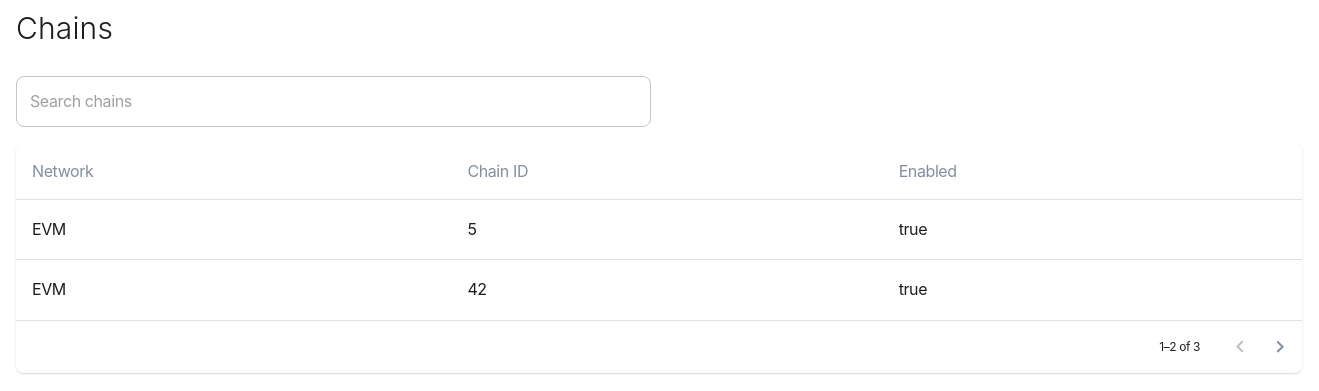
it: ChainsScreen › can page through the list of chains
Check: the text "5" is shown, box [467,218,476,241]
Check: the text "42" is shown, box [467,278,487,302]
Click the button named "next-page": (1280, 347) [1260,327,1300,367]
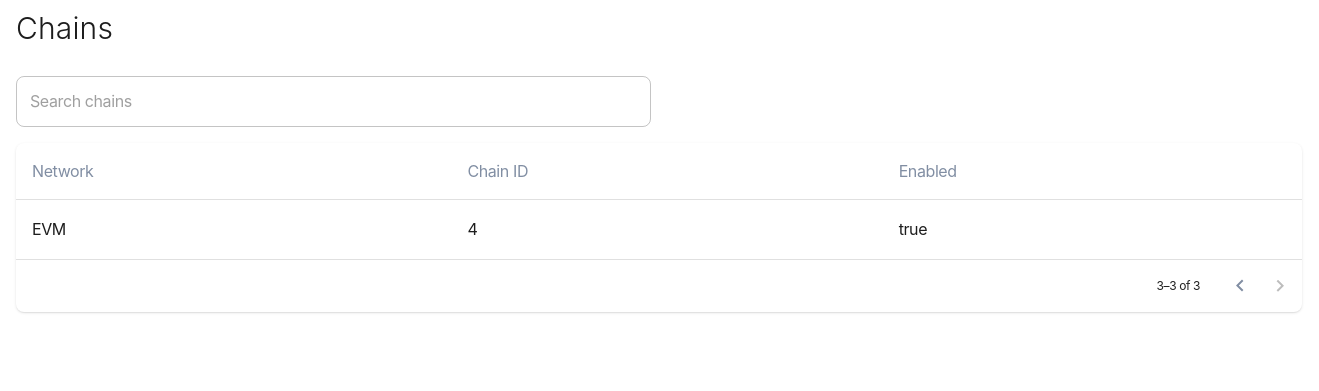
Check: the text "4" is shown, box [467,218,477,241]
Check: the text "3–3 of 3" is shown, box [1157,276,1200,297]
Check: the button named "next-page" is disabled, box [1260,266,1300,306]
Click the button named "prev-page": (1240, 286) [1220,266,1260,306]
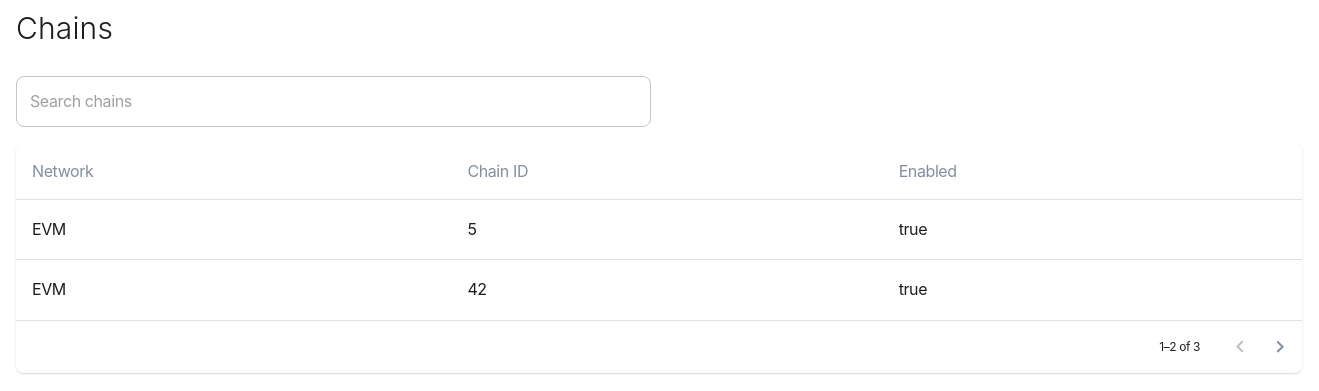
Check: the text "5" is shown, box [467,218,476,241]
Check: the text "42" is shown, box [467,278,487,302]
Check: the text "1–2 of 3" is shown, box [1159,336,1200,357]
